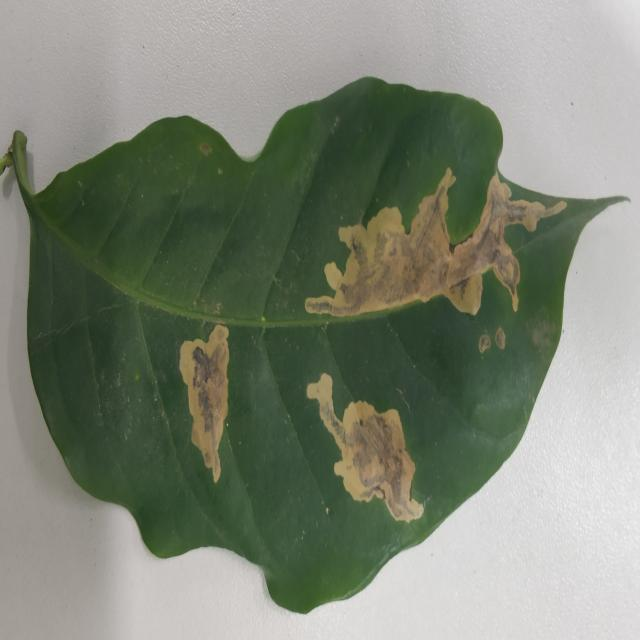Plaga-Minador: (1, 77, 630, 617)
